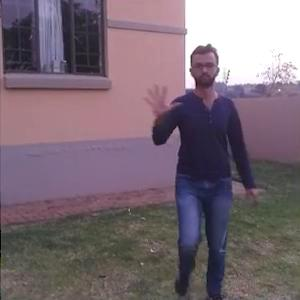follow_hand: (138, 81, 183, 118)
